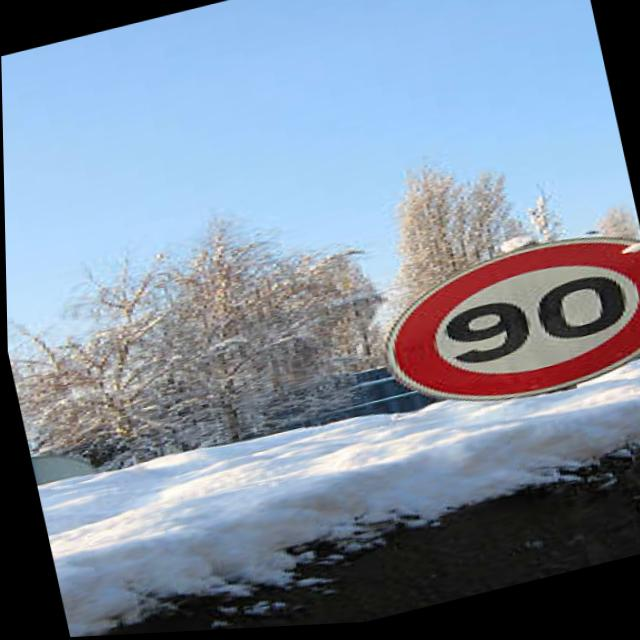Speed Limit -90-: (359, 221, 640, 437)
